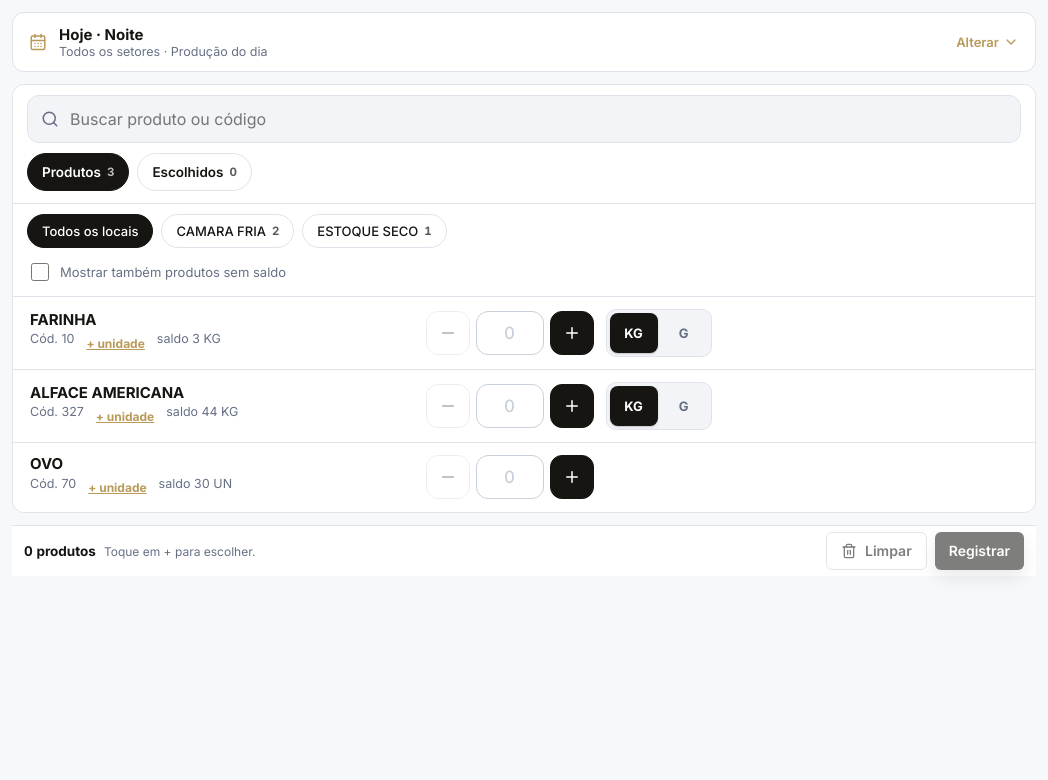
Test: FormularioDaRequisicao › escolher um produto de uma só unidade não empurra os de baixo (toques rápidos descendo a lista)
Click the button named "Aumentar OVO" at [572, 477], box x1=550 y1=455 x2=594 y2=499
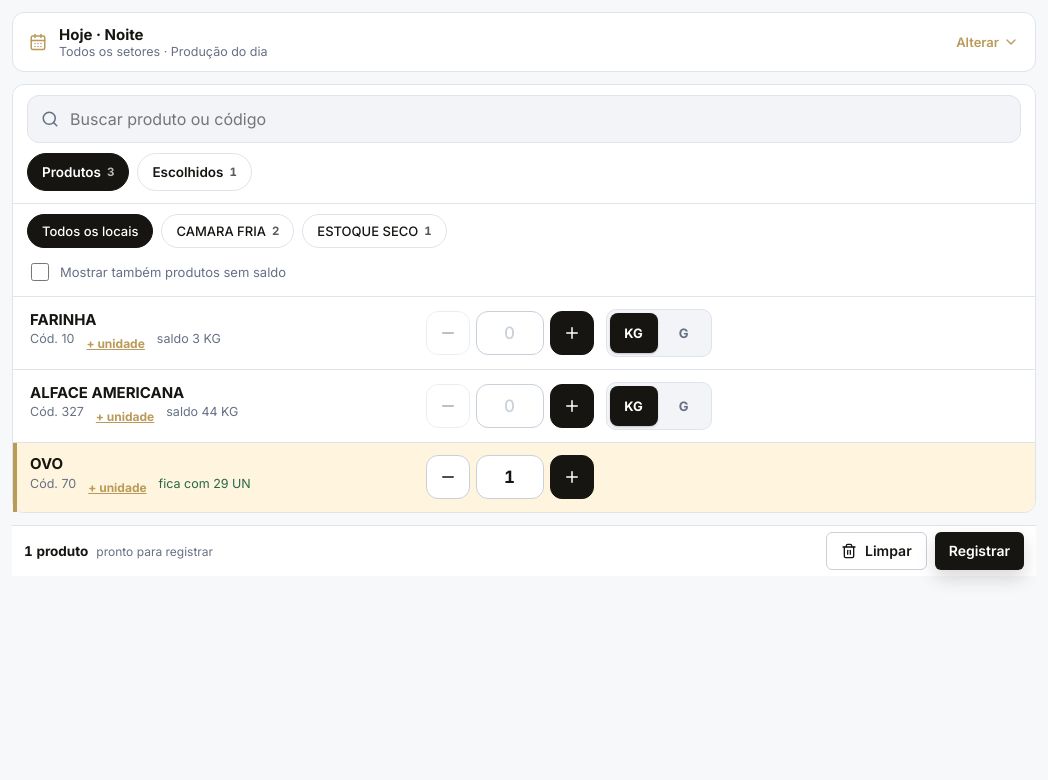
Check: the text "fica com 29 UN" is shown, box x1=159 y1=476 x2=251 y2=500
